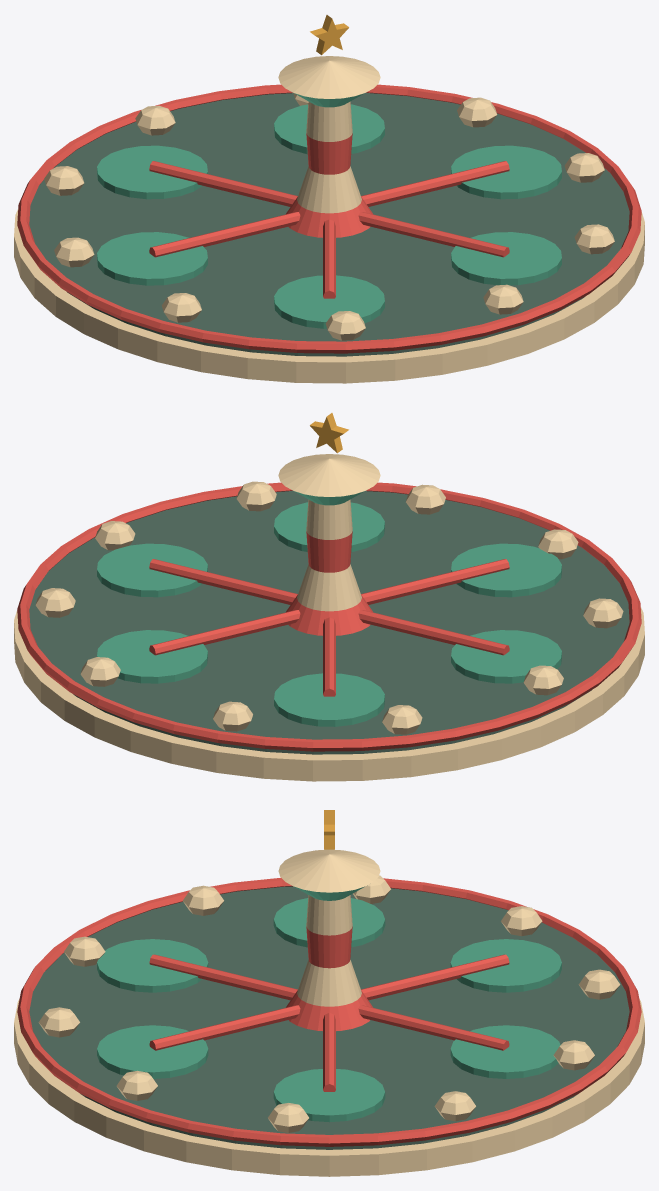
File: ParkParkReindeerHub.obj
3 renders of one model, top to bottom at view 1: azimuth 30°, elevation 25°; view 2: azimuth 150°, elevation 25°; view 3: azimuth 270°, elevation 25°, orthographic.
Visible parts, largest first — view 1: ParkParkReindeerHub; view 2: ParkParkReindeerHub; view 3: ParkParkReindeerHub.
Part boxes in pixels (<box>): ParkParkReindeerHub: <box>14,15,644,383</box>; ParkParkReindeerHub: <box>14,413,644,781</box>; ParkParkReindeerHub: <box>14,810,644,1176</box>.
Bounding box in the file's own units: 13.6 × 5.55 × 13.6.
